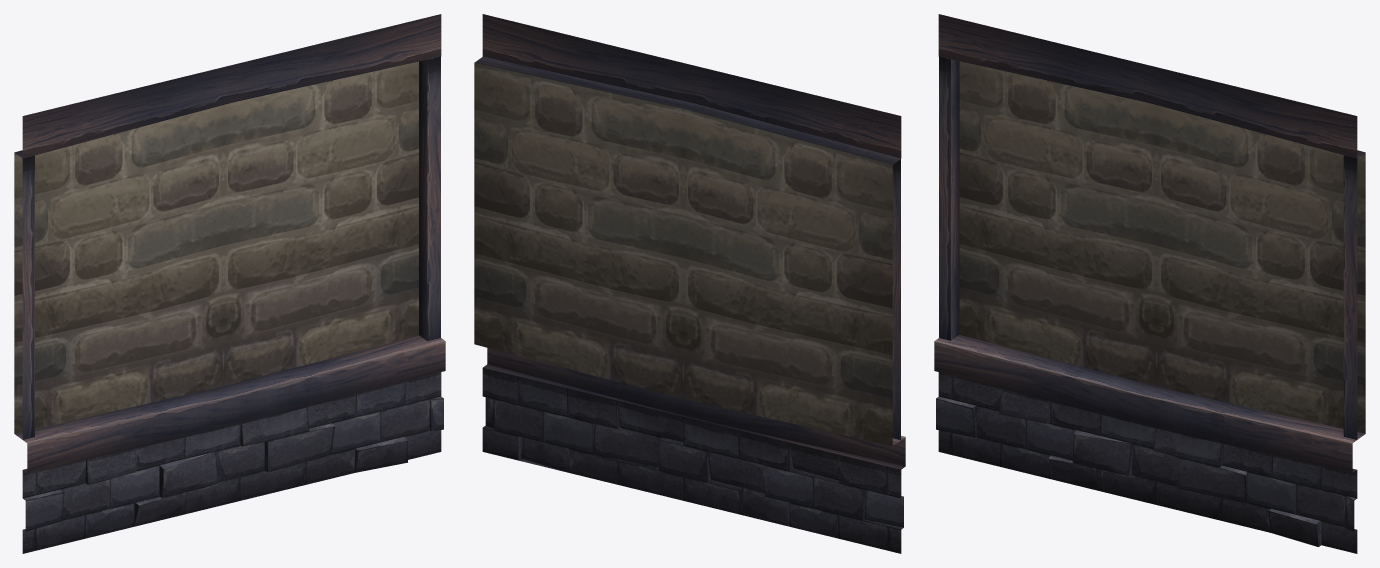
The model's file is Wall_1sided_detailed_Bricks.fbx.
3 renders of one model, left to right at view 1: azimuth 30°, elevation 25°; view 2: azimuth 150°, elevation 25°; view 3: azimuth 330°, elevation 25°, orthographic.
Visible parts, largest first — view 1: Wall_1sided_detailed_Bricks; view 2: Wall_1sided_detailed_Bricks; view 3: Wall_1sided_detailed_Bricks.
Boxes of the visible parts, x1,y1,x2,y2 form: Wall_1sided_detailed_Bricks: (14, 14, 445, 553); Wall_1sided_detailed_Bricks: (474, 14, 905, 553); Wall_1sided_detailed_Bricks: (934, 14, 1365, 553).
Size of the model in its own units: 0.6266 by 0.6266 by 0.0339.
